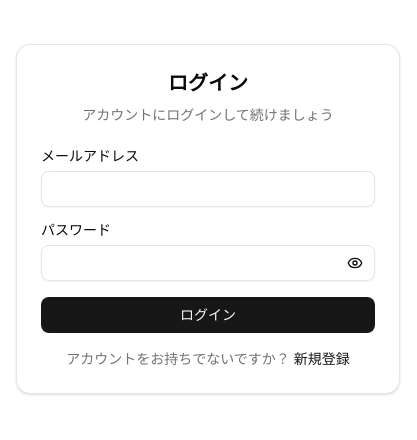
Test: LoginPage › 無効な入力でバリデーションエラーを表示する
Expected: the heading "ログイン" is shown, [168, 72, 248, 94]
Click the button "ログイン". click: (208, 315)
box: [41, 297, 375, 333]
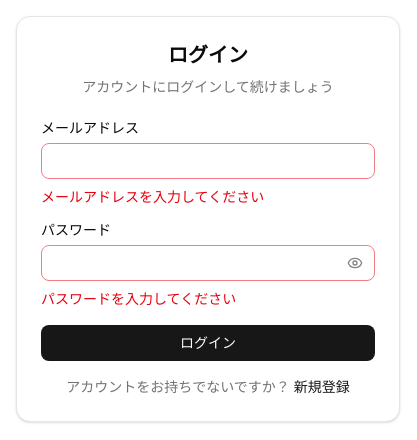
Expected: the text "メールアドレスを入力してください" is shown, [41, 189, 264, 205]
Expected: the text "パスワードを入力してください" is shown, [41, 291, 236, 307]
